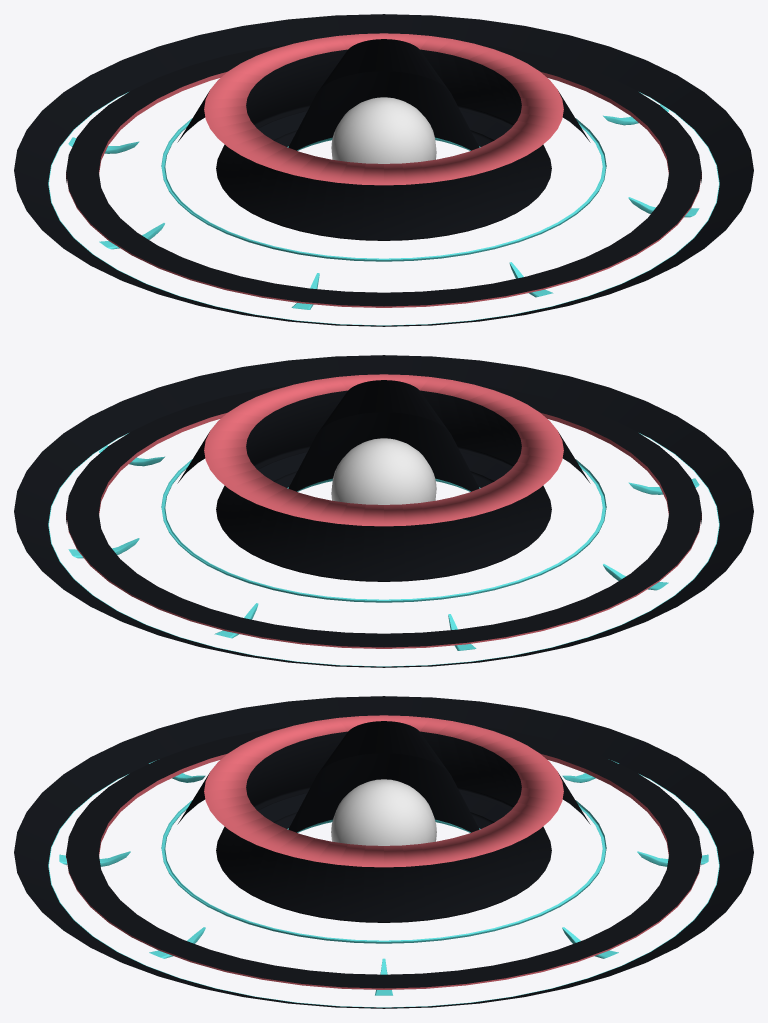
Rendered from ceiling_Wave.fbx.
3 views of the same model, one above another, from view 1: azimuth 30°, elevation 25°; view 2: azimuth 150°, elevation 25°; view 3: azimuth 270°, elevation 25° (orthographic).
Parts seen in each view (by area): view 1: pCylinder42; view 2: pCylinder42; view 3: pCylinder42.
Boxes of the visible parts, box(x1,y1,x2,y2) form: pCylinder42: box(14, 14, 753, 326); pCylinder42: box(14, 355, 753, 667); pCylinder42: box(14, 696, 753, 1008).
Bounding box in the file's own units: 50 × 10.65 × 50.
